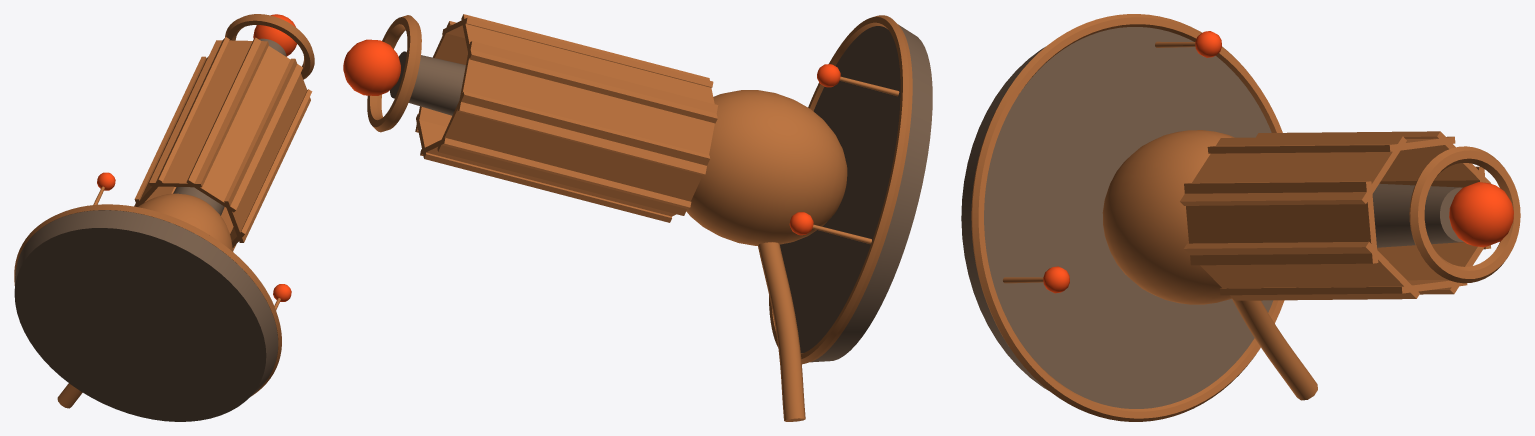
The model's file is glutwerk.obj.
3 renders of one model, left to right at view 1: azimuth 30°, elevation 25°; view 2: azimuth 150°, elevation 25°; view 3: azimuth 270°, elevation 25°, orthographic. The views are drawn at different scales.
Parts seen in each view (by area): view 1: Glutwerk; view 2: Glutwerk; view 3: Glutwerk.
Boxes of the visible parts, <box> form: Glutwerk: <box>14,14,314,421</box>; Glutwerk: <box>343,14,932,421</box>; Glutwerk: <box>961,14,1520,421</box>.
Size of the model in its own units: 22.03 by 17.05 by 20.41.
